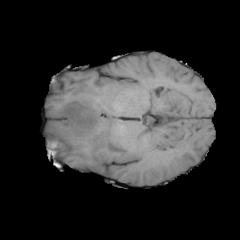glioma: (48, 89, 129, 164)
